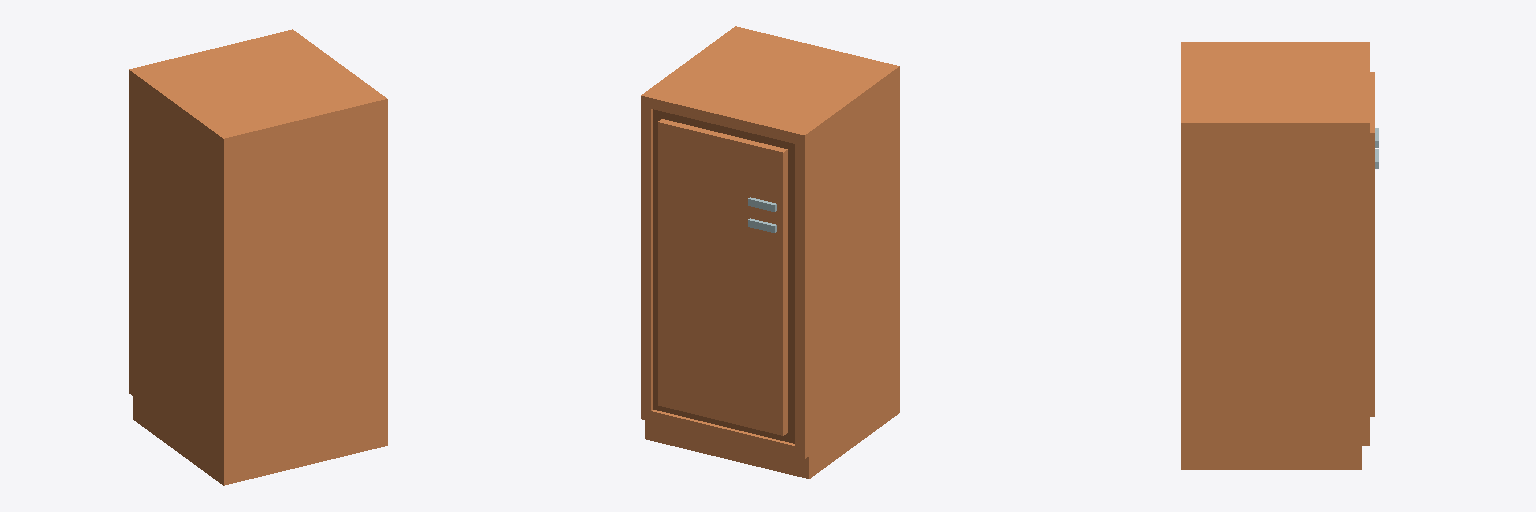
File: kitchenFridgeBuiltIn.obj
The picture shows the model from 3 angles: view 1: azimuth 30°, elevation 25°; view 2: azimuth 150°, elevation 25°; view 3: azimuth 270°, elevation 25°; orthographic projection.
Parts seen in each view (by area): view 1: kitchenFridgeBuiltIn; view 2: kitchenFridgeBuiltIn, doorFridge, doorFreezer; view 3: kitchenFridgeBuiltIn, doorFridge, doorFreezer.
Boxes of the visible parts, x1=… form: kitchenFridgeBuiltIn: x1=129, y1=29, x2=387, y2=485; kitchenFridgeBuiltIn: x1=641, y1=26, x2=899, y2=478; doorFridge: x1=658, y1=189, x2=787, y2=435; doorFreezer: x1=658, y1=119, x2=787, y2=218; kitchenFridgeBuiltIn: x1=1181, y1=42, x2=1369, y2=469; doorFridge: x1=1370, y1=149, x2=1378, y2=416; doorFreezer: x1=1370, y1=72, x2=1378, y2=199.
Size of the model in its own units: 0.43 by 0.8687 by 0.45.